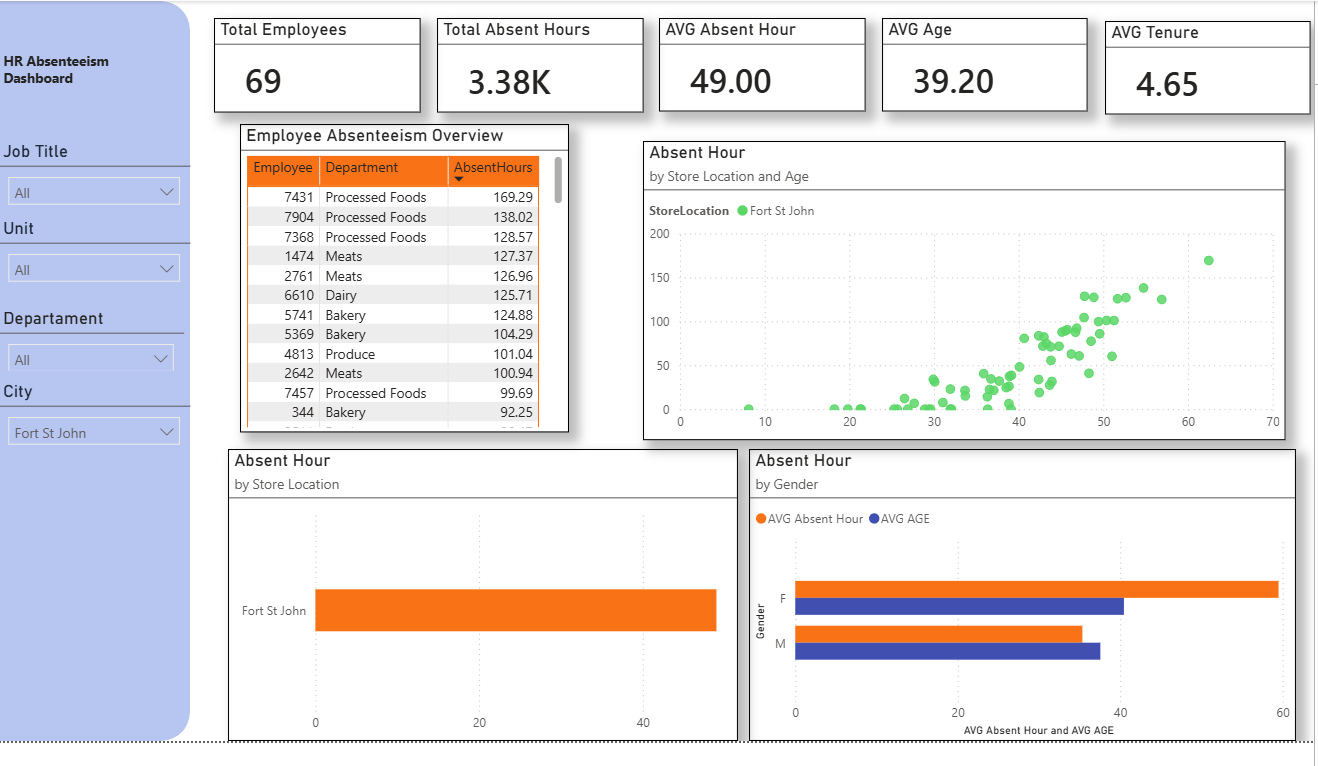

The dashboard page shown, as its layout file describes it:
{"tool":"powerbi","page":{"name":"Store & Workforce Insights","canvas":[1280,720],"ordinal":2},"visuals":[{"type":"shape","box":[0,0,186.7,719.8],"z":0},{"type":"cardVisual","title":"Total Employees","fields":{"Data":["MFGEmployees4.Total Employees"]},"box":[209.8,16.8,200.6,91.9],"z":1000},{"type":"cardVisual","title":"Total Absent Hours","fields":{"Data":["MFGEmployees4.Total Absent Hour"]},"box":[426.6,16.8,200.6,92],"z":2000},{"type":"cardVisual","title":"AVG Absent Hour","fields":{"Data":["MFGEmployees4.AVG Absent Hour"]},"box":[643.3,16.8,200.6,91],"z":3000},{"type":"cardVisual","title":"AVG  Age","fields":{"Data":["MFGEmployees4.AVG AGE"]},"box":[860.1,16.8,200,91],"z":4000},{"type":"cardVisual","title":"AVG Tenure","fields":{"Data":["MFGEmployees4.AVG lenght of service"]},"box":[1076.4,19.9,200,91],"z":5000},{"type":"slicer","title":"City","fields":{"Values":["MFGEmployees4.City"]},"box":[0,369.6,186.7,76.8],"z":6000},{"type":"slicer","title":"Departament","fields":{"Values":["MFGEmployees4.DepartmentName"]},"box":[0,298.6,180.9,61.3],"z":7000},{"type":"slicer","title":"Job Title","fields":{"Values":["MFGEmployees4.JobTitle"]},"box":[0,136.2,186.7,74.9],"z":8000},{"type":"slicer","title":"Unit","fields":{"Values":["MFGEmployees4.BusinessUnit"]},"box":[0,211.1,186.7,97.3],"z":9000},{"type":"tableEx","title":"Employee Absenteeism Overview","fields":{"Values":["MFGEmployees4.EmployeeNumber","MFGEmployees4.DepartmentName","MFGEmployees4.AbsentHours"]},"box":[235.4,119.6,320,299.6],"z":10000},{"type":"scatterChart","title":"Absent Hour ","fields":{"X":["MFGEmployees4.Age"],"Y":["MFGEmployees4.AVG Absent Hour"],"Series":["MFGEmployees4.StoreLocation"]},"box":[627.4,136.2,625.4,290.8],"z":11000},{"type":"clusteredBarChart","title":"Absent Hour","fields":{"Y":["MFGEmployees4.AVG Absent Hour"],"Category":["MFGEmployees4.StoreLocation"]},"box":[223.7,435.7,496,284],"z":12000},{"type":"textbox","box":[0,43.8,180.9,52.5],"z":12001},{"type":"clusteredBarChart","title":"Absent Hour","fields":{"Y":["MFGEmployees4.AVG Absent Hour","MFGEmployees4.AVG AGE"],"Category":["MFGEmployees4.Gender"]},"box":[730.5,435.7,532,284],"z":12002}]}

Visuals, with their boxes on the page's 1280x720 design canvas (x1, y1, x2, y2). These are canvas units, not pixel positions in the 1318x766 screenshot, which may show the page scaled, cropped or inside an application window:
shape: x1=0, y1=0, x2=187, y2=720
"Total Employees" cardVisual: x1=210, y1=17, x2=410, y2=109
"Total Absent Hours" cardVisual: x1=427, y1=17, x2=627, y2=109
"AVG Absent Hour" cardVisual: x1=643, y1=17, x2=844, y2=108
"AVG  Age" cardVisual: x1=860, y1=17, x2=1060, y2=108
"AVG Tenure" cardVisual: x1=1076, y1=20, x2=1276, y2=111
"City" slicer: x1=0, y1=370, x2=187, y2=446
"Departament" slicer: x1=0, y1=299, x2=181, y2=360
"Job Title" slicer: x1=0, y1=136, x2=187, y2=211
"Unit" slicer: x1=0, y1=211, x2=187, y2=308
"Employee Absenteeism Overview" tableEx: x1=235, y1=120, x2=555, y2=419
"Absent Hour " scatterChart: x1=627, y1=136, x2=1253, y2=427
"Absent Hour" clusteredBarChart: x1=224, y1=436, x2=720, y2=720
textbox: x1=0, y1=44, x2=181, y2=96
"Absent Hour" clusteredBarChart: x1=730, y1=436, x2=1262, y2=720
